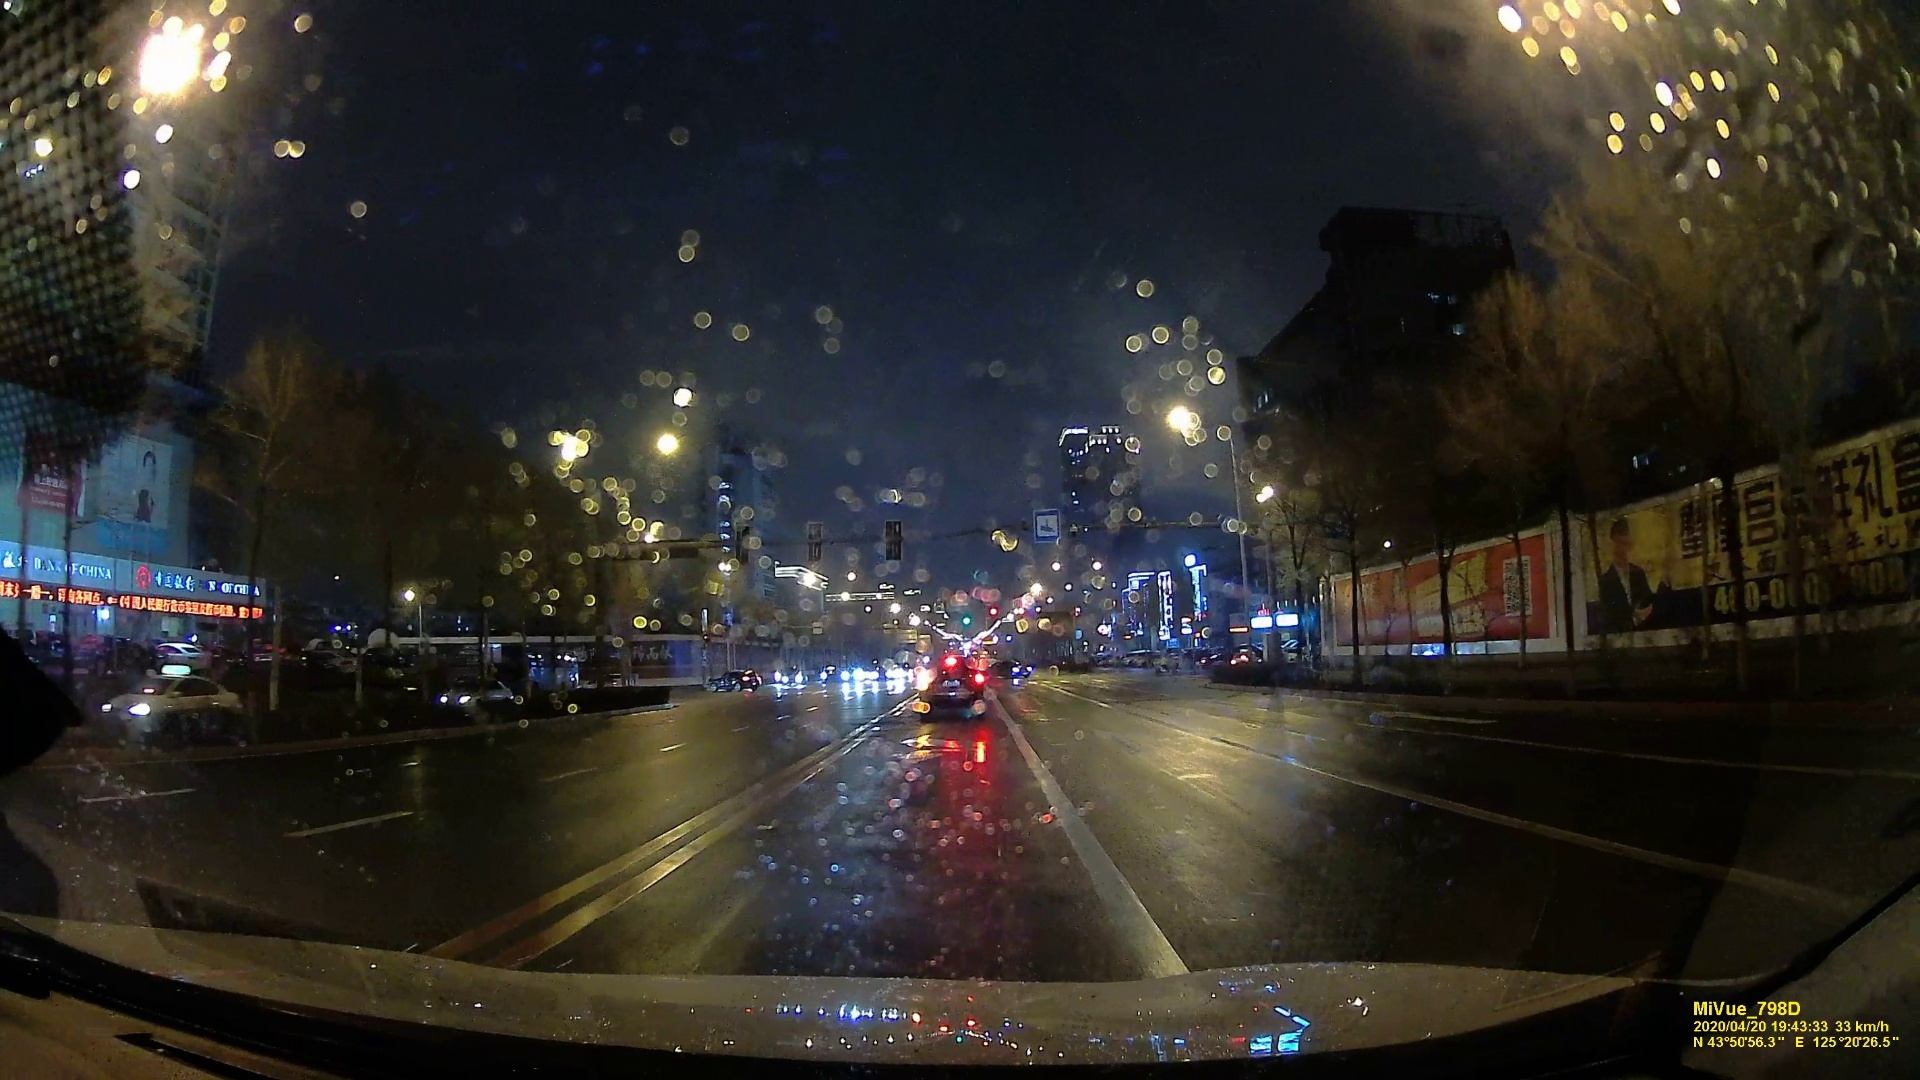bus: (497, 644, 582, 695)
traffic_sign: (1030, 506, 1062, 542)
vehicle: (103, 671, 243, 733), (916, 663, 989, 725), (438, 676, 516, 711), (708, 667, 761, 695), (990, 658, 1034, 680)
